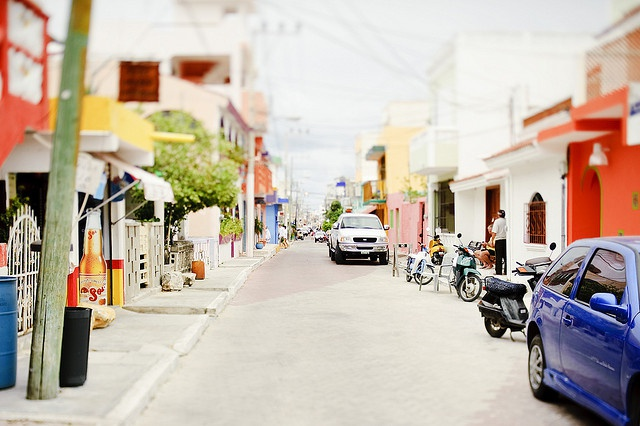non-vehicle: (476, 241, 556, 342), (449, 232, 482, 302), (403, 241, 435, 285), (426, 231, 447, 265)
